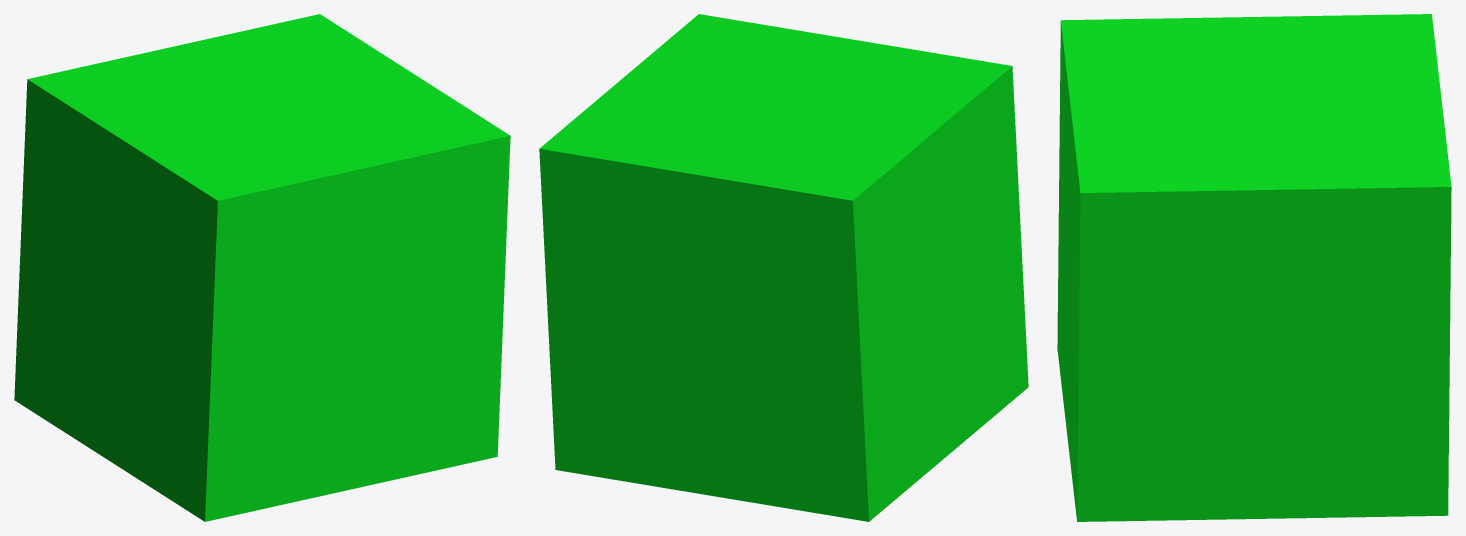
File: green_cube.glb
3 views of the same model, side by side, from view 1: azimuth 30°, elevation 25°; view 2: azimuth 150°, elevation 25°; view 3: azimuth 270°, elevation 25° (orthographic). The views are drawn at different scales.
Parts seen in each view (by area): view 1: Cube; view 2: Cube; view 3: Cube.
Boxes of the visible parts, x1,y1,x2,y2 form: Cube: (14, 14, 510, 521); Cube: (539, 14, 1028, 521); Cube: (1057, 14, 1451, 521).
Size of the model in its own units: 2.2 by 2.11 by 2.12.
